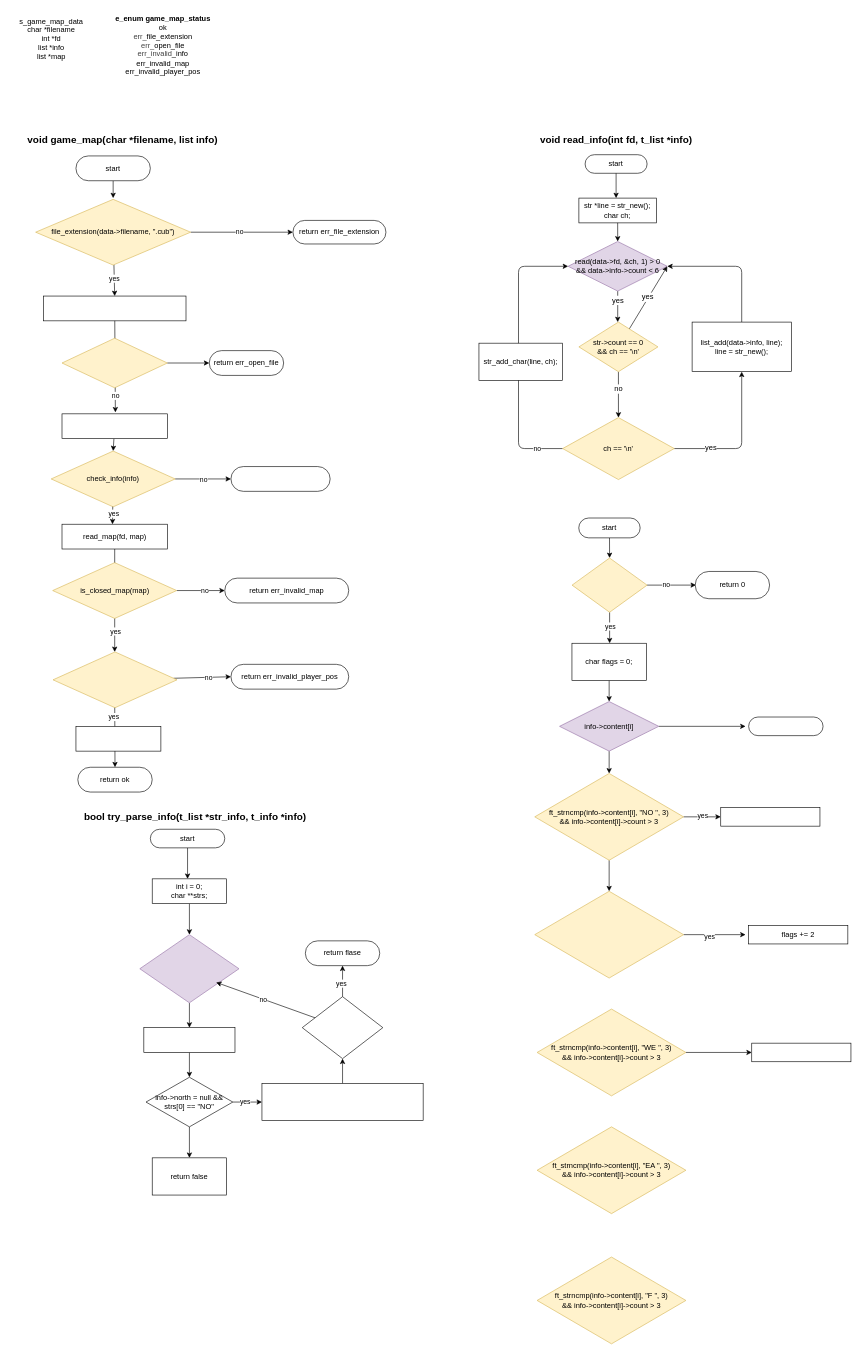
This 862x1355 diagram has some shape labels left out. The centre of each missing label's shape, as x and y in pixels:
close(data->fd);: [118,738]
data->fd = ft_open(data->file_name, O_RONLY, 0666): [114,308]
data->fd == -1: [114,363]
flags += 1: [770,816]
flags += 4: [801,1052]
ft_strncmp( info->content[i], "SO ", 3 ) && info->content[i]->count > 3: [609,934]
info->count = 6: [609,584]
info->north = create_image(strs[1]);: [342,1102]
info->north == null: [342,1027]
is_valid_player_pos(map ): [114,679]
read_info(fd, info): [114,426]
return err_invalid_info: [280,478]
return flags==36: [785,726]
str_info->content[i]: [189,968]
strs = split(): [189,1039]
